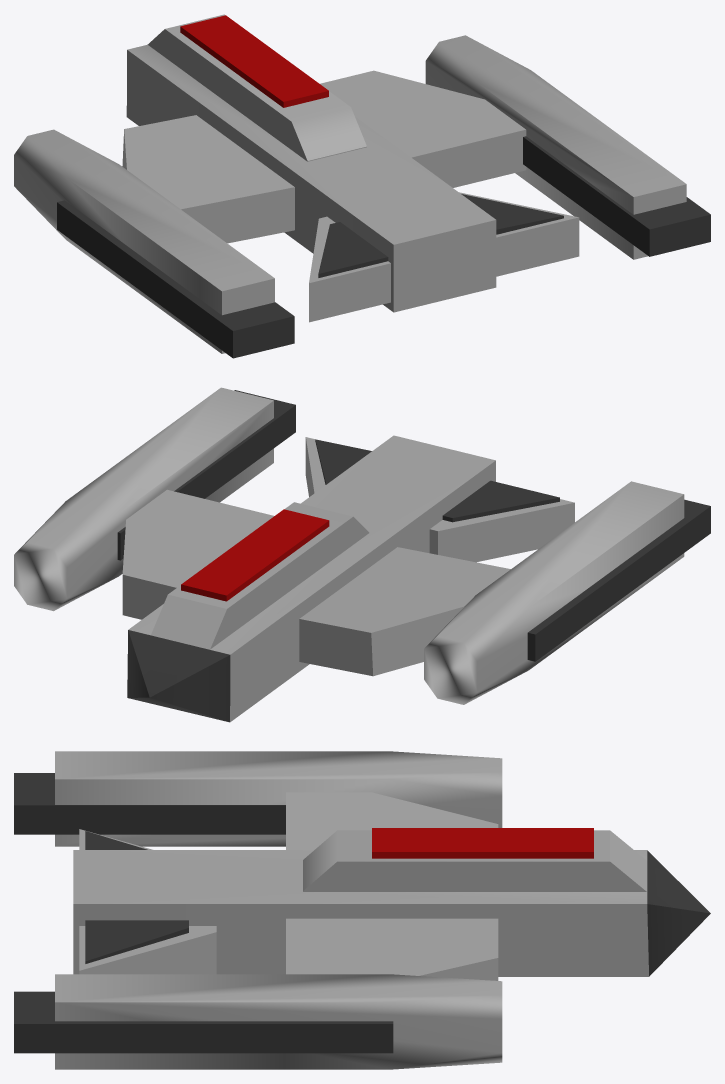
Rendered from Enemy02Model.fbx.
The picture shows the model from 3 angles, top to bottom: view 1: azimuth 30°, elevation 25°; view 2: azimuth 150°, elevation 25°; view 3: azimuth 270°, elevation 25°; orthographic projection. The views are drawn at different scales.
Visible parts, largest first — view 1: pCube1, pCube5, pCube3, pCube4, pCube2, pCube11, pCube12, pCube8, pCube6, pCube7, pCube9, pCube10; view 2: pCube1, pCube5, pCube3, pCube4, pCube2, pCube11, pCube6, pCube8, pCube12, pCube9, pCube10, pCube7; view 3: pCube1, pCube3, pCube5, pCube12, pCube2, pCube11, pCube8, pCube4, pCube7, pCube10, pCube9.
Boxes of the visible parts, x1,y1,x2,y2 form: pCube1: (126, 14, 496, 312); pCube5: (14, 129, 274, 353); pCube3: (425, 35, 686, 259); pCube4: (122, 115, 294, 243); pCube2: (320, 70, 526, 187); pCube11: (57, 200, 294, 358); pCube12: (523, 136, 710, 256); pCube8: (180, 15, 328, 107); pCube6: (309, 216, 390, 322); pCube7: (459, 192, 579, 276); pCube9: (318, 222, 388, 277); pCube10: (461, 194, 563, 234); pCube1: (127, 435, 495, 722); pCube5: (424, 481, 684, 704); pCube3: (14, 387, 273, 611); pCube4: (299, 547, 510, 676); pCube2: (122, 489, 273, 619); pCube11: (527, 499, 710, 661); pCube6: (429, 499, 574, 562); pCube8: (181, 509, 329, 601); pCube12: (117, 390, 295, 560); pCube9: (442, 480, 559, 522); pCube10: (315, 439, 371, 484); pCube7: (305, 437, 325, 496); pCube1: (73, 830, 710, 976); pCube3: (55, 974, 502, 1069); pCube5: (55, 751, 502, 846); pCube12: (14, 991, 393, 1053); pCube2: (286, 918, 498, 980); pCube11: (14, 773, 285, 834); pCube8: (372, 828, 593, 858); pCube4: (286, 792, 498, 849); pCube7: (79, 926, 216, 974); pCube10: (85, 920, 188, 963); pCube9: (85, 831, 147, 849).
Bounding box in the file's own units: 1.57 × 0.3198 × 1.84.
